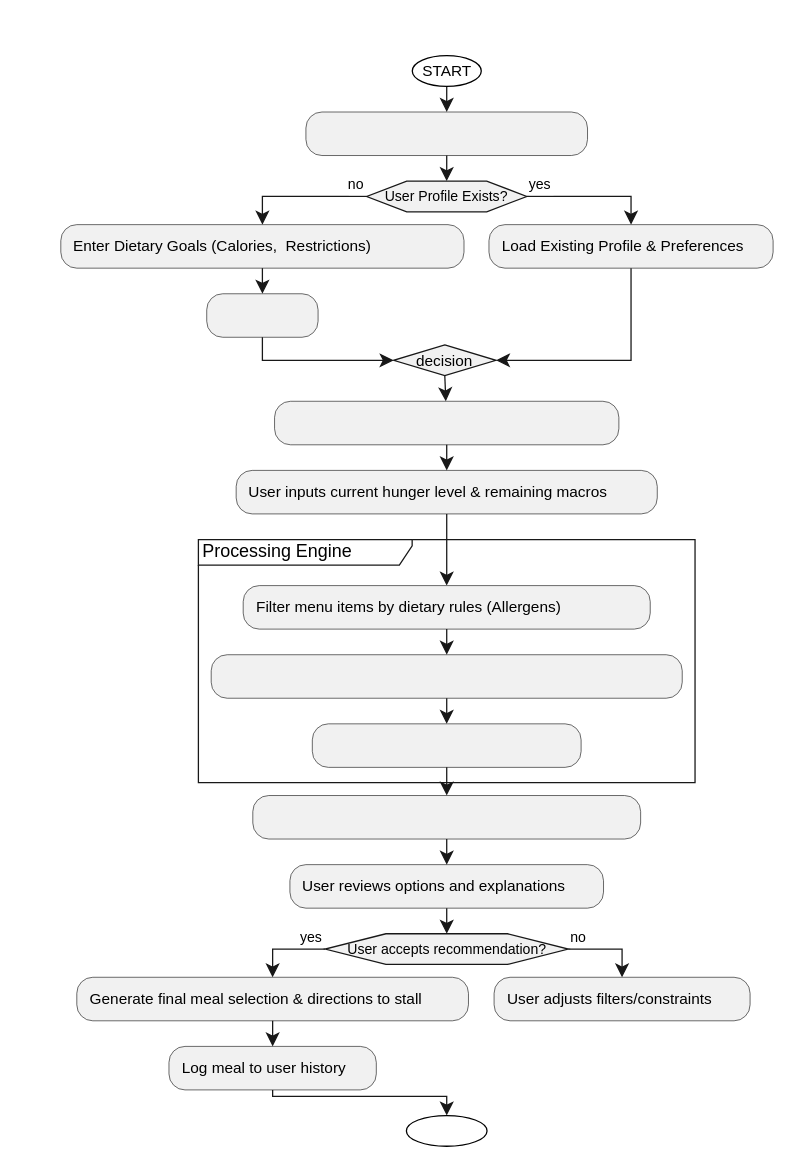
Some shapes in this 795 by 1169 pixel diagram are drawn without their labels. Each missing label, with the centre of its shape:
"Display Recommended Meal Plans with Rationale" goes at (446,817).
"END" goes at (446,1130).
"Evaluate dishes using Fuzzy Logic / Recommendation Rules" goes at (446,676).
"Fetch Today's Canteen Stalls & Menu Items" goes at (446,422).
"Rank optimal food combinations" goes at (446,745).
"Save Profile" goes at (262,315).
"User opens Canteen Diet App" goes at (446,133).
